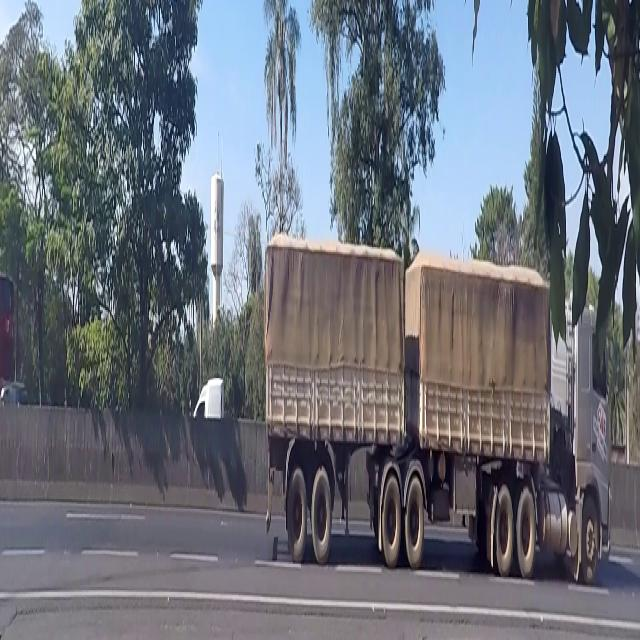-axle: (285, 452, 307, 568), (378, 466, 402, 570), (404, 466, 426, 576), (516, 474, 538, 580), (311, 454, 331, 564), (580, 483, 600, 590), (494, 480, 513, 582)
